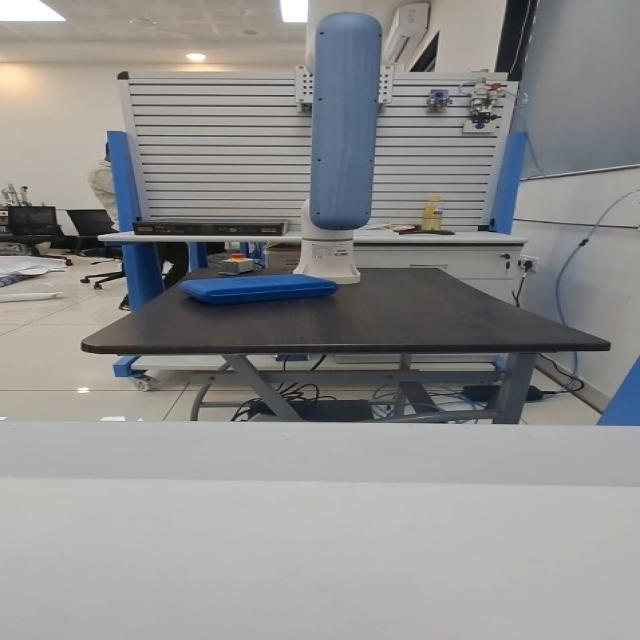top-surface: (201, 274, 306, 286)
